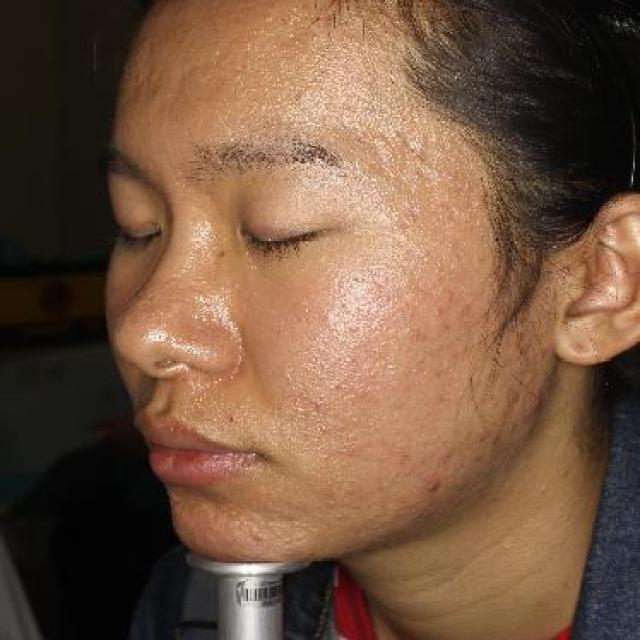dark spot: (387, 444, 422, 476), (428, 446, 464, 471), (402, 351, 430, 383), (432, 317, 461, 343), (428, 362, 450, 388), (458, 298, 478, 322)
nodules: (418, 474, 447, 497)
papules: (404, 322, 428, 346), (442, 288, 458, 302)
whiteheads: (348, 320, 367, 340), (433, 257, 448, 280), (400, 211, 422, 226), (354, 386, 372, 402)
